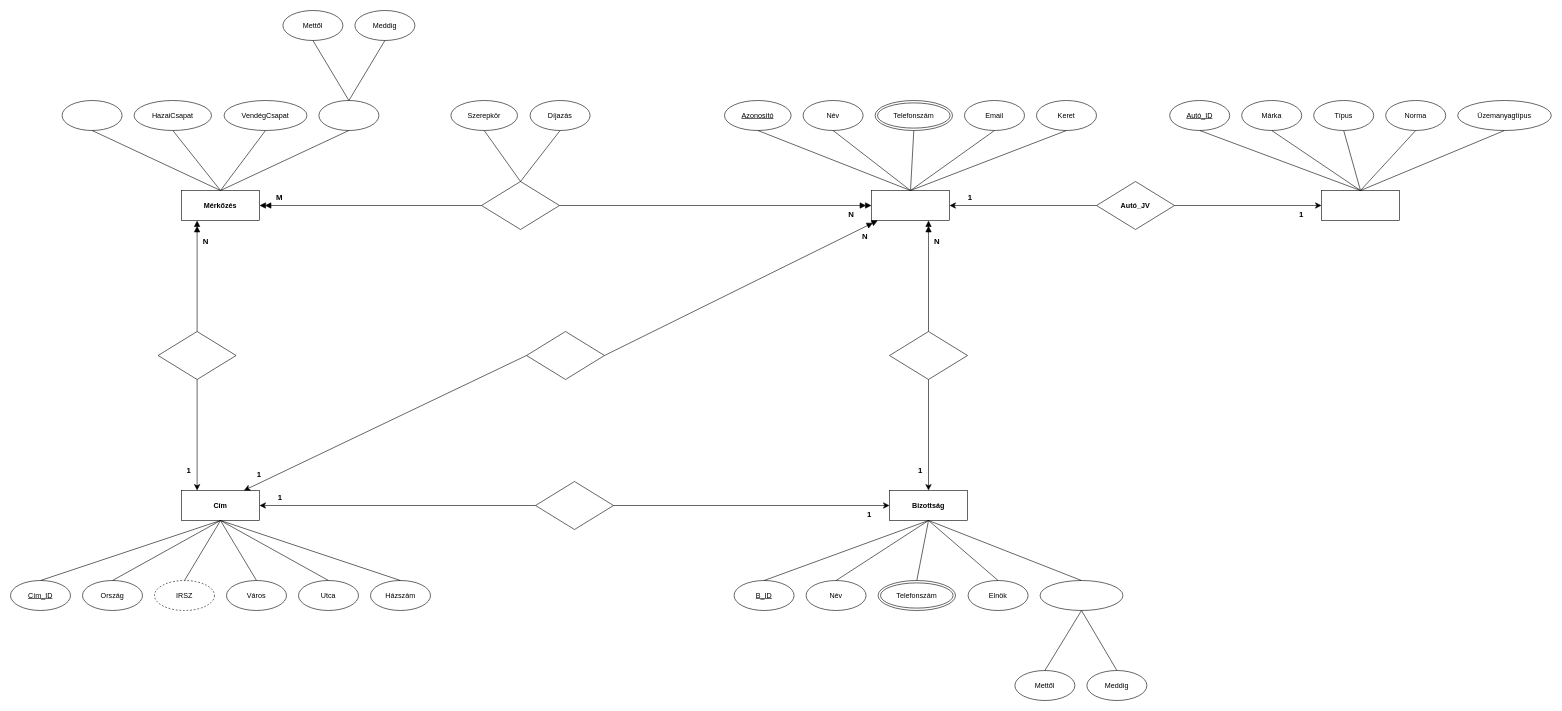
Some shapes in this 1562 by 711 pixel diagram are drawn without their labels. Here are the shapes that lost their labels. From the top down, the centre of each, then its label:
the point at 92,115: M_ID
the point at 348,115: Időpont
the point at 520,205: Küldés
the point at 910,205: Játékvezető
the point at 1360,205: Autó
the point at 197,355: Helyszín
the point at 565,355: Lakik
the point at 928,355: Működik
the point at 574,505: Székhely
the point at 1081,595: Nyitvatartás
